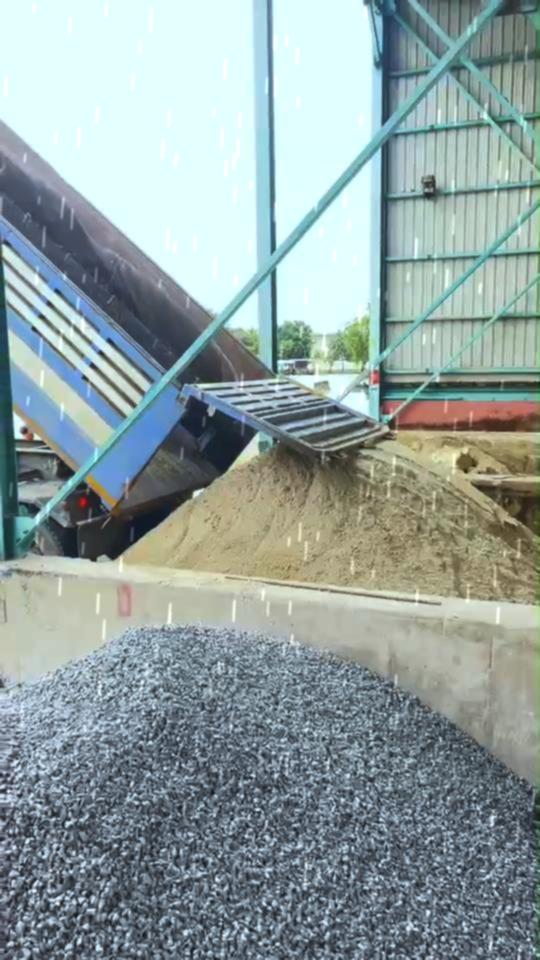gravel: (4, 627, 537, 959)
sand: (120, 442, 536, 601), (422, 436, 517, 479)
